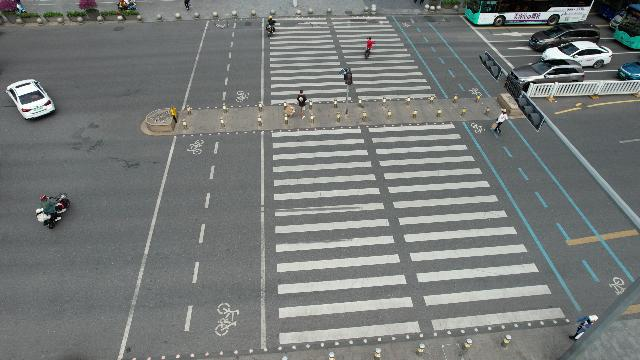non-motor-vehicle: (30, 191, 76, 231), (364, 36, 376, 60), (265, 15, 277, 37)
person: (295, 87, 309, 118), (494, 106, 508, 136), (574, 314, 598, 329)
